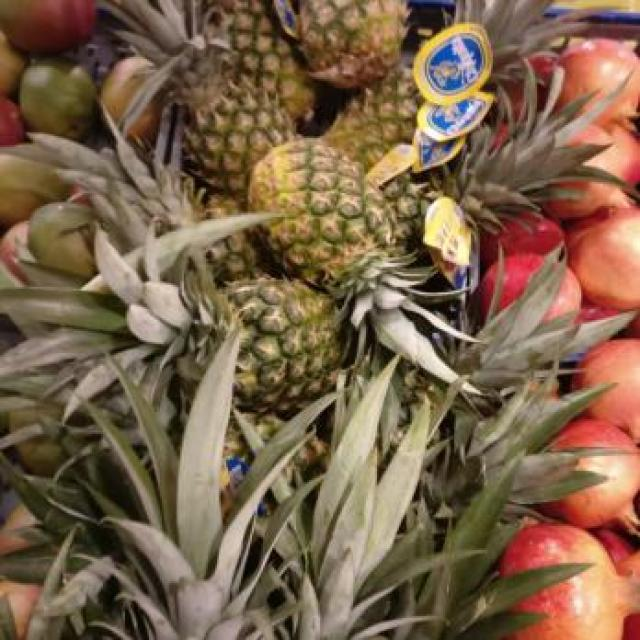pineapple: (0, 200, 253, 418), (250, 139, 469, 383), (105, 0, 294, 198), (225, 276, 340, 413), (274, 0, 408, 88), (325, 65, 422, 169), (229, 0, 314, 118), (460, 0, 561, 73)
